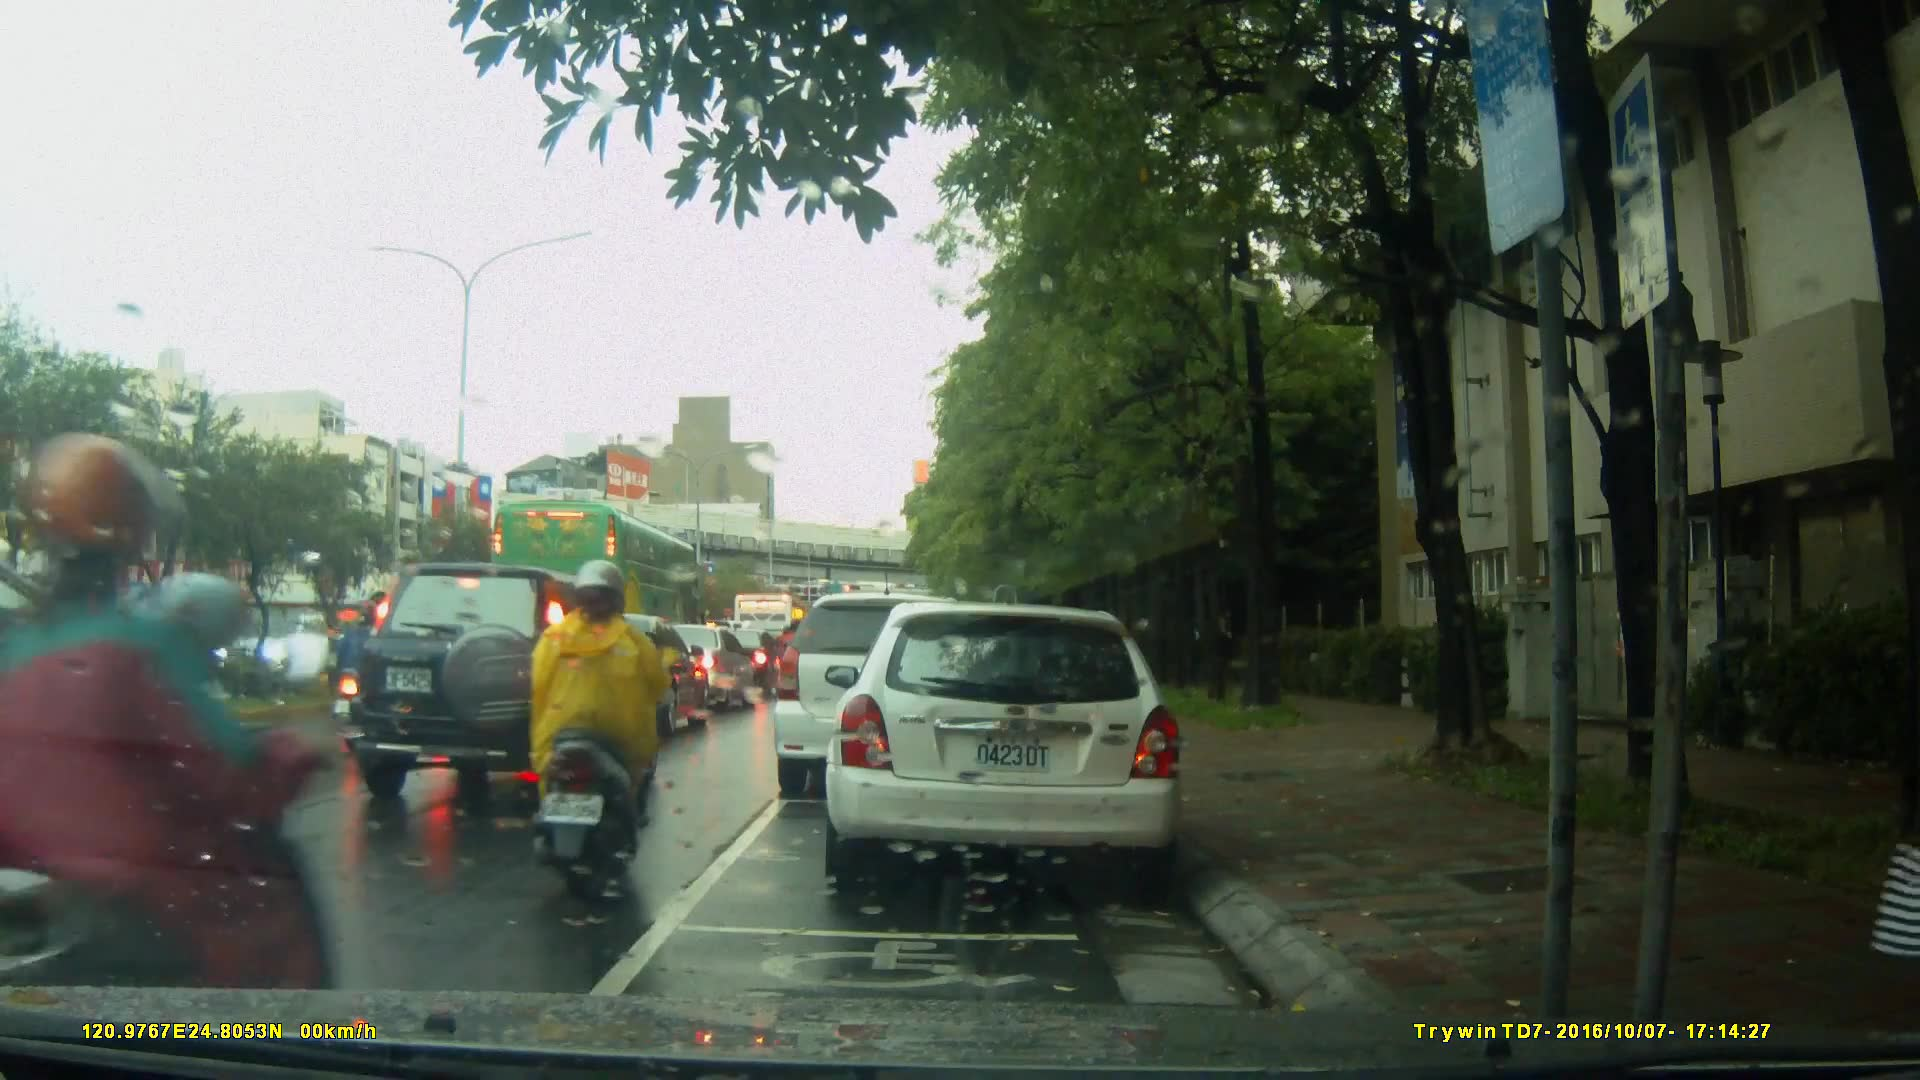pedestrian: (1861, 444, 1920, 979)
rider: (1, 435, 347, 1070), (527, 555, 677, 898), (775, 612, 809, 706)
vehicle: (831, 592, 1196, 897), (1, 546, 251, 988), (365, 559, 641, 813), (770, 592, 999, 801), (494, 497, 704, 659), (637, 624, 759, 714)
